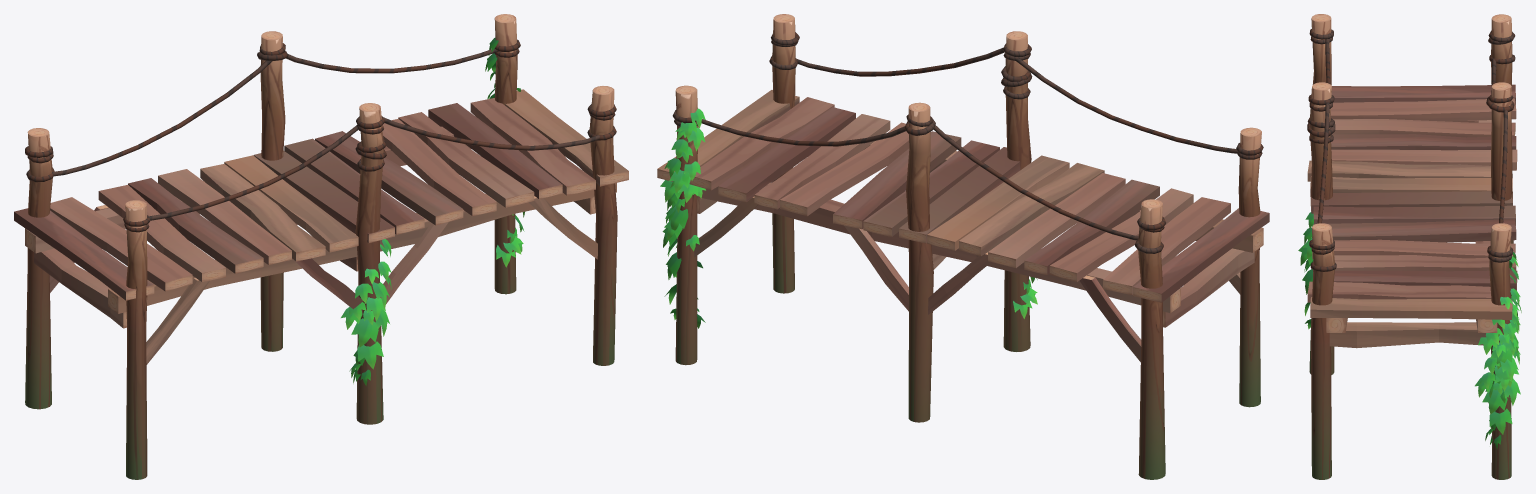
The model's file is Mesh_Bridge.fbx.
The picture shows the model from 3 angles, left to right: view 1: azimuth 30°, elevation 25°; view 2: azimuth 150°, elevation 25°; view 3: azimuth 270°, elevation 25°; orthographic projection. The views are drawn at different scales.
Visible parts, largest first — view 1: Bridge; view 2: Bridge; view 3: Bridge.
Boxes of the visible parts, x1,y1,x2,y2 form: Bridge: [14, 14, 628, 479]; Bridge: [657, 14, 1269, 479]; Bridge: [1298, 14, 1521, 479].
Bounding box in the file's own units: 681 × 399 × 284.
